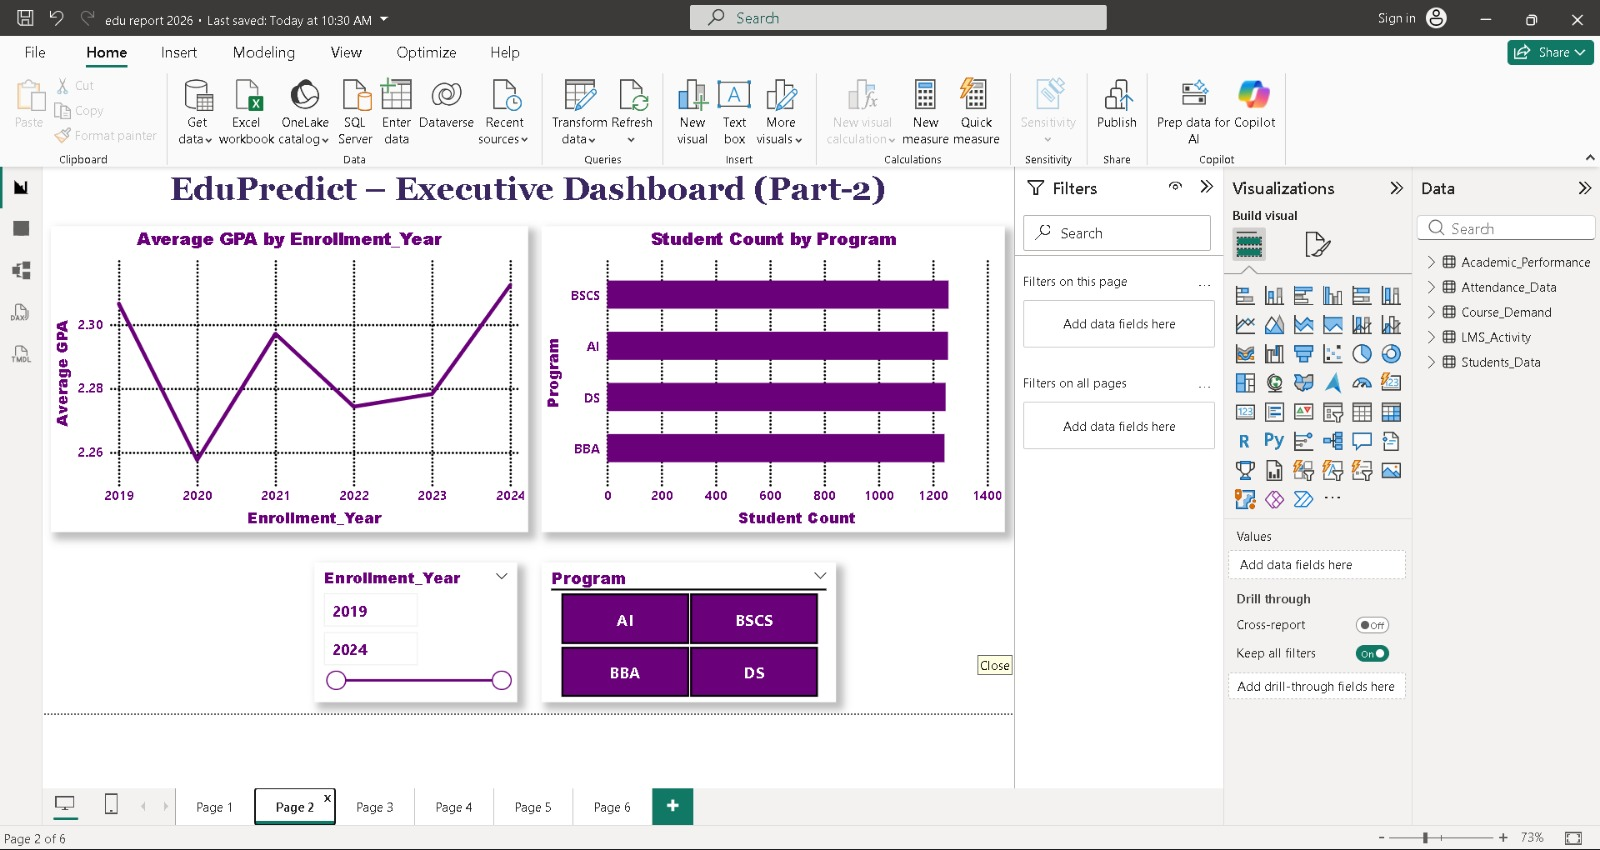

The page's visual inventory and layout, read from the dashboard file:
{"tool":"powerbi","page":{"name":"Page 2","canvas":[1280,720],"ordinal":1},"visuals":[{"type":"textbox","box":[0,0,1280,78.4],"z":0},{"type":"lineChart","fields":{"Category":["Students_Data.Enrollment_Year"],"Y":["Academic_Performance.Average GPA"]},"box":[11,78.2,628.5,403.4],"z":1000},{"type":"barChart","fields":{"Y":["Students_Data.Student Count"],"Category":["Students_Data.Program"]},"box":[657.3,78.2,610.6,403.4],"z":2000},{"type":"slicer","fields":{"Values":["Students_Data.Enrollment_Year"]},"box":[358.1,521.4,267.6,183.9],"z":3000},{"type":"slicer","fields":{"Values":["Students_Data.Program"]},"box":[657.3,521.4,388.3,183.9],"z":4001}]}

Visuals, with their boxes on the page's 1280x720 design canvas (x1, y1, x2, y2). These are canvas units, not pixel positions in the 1600x850 screenshot, which may show the page scaled, cropped or inside an application window:
textbox: BBox(0, 0, 1280, 78)
lineChart - Students_Data.Enrollment_Year x Academic_Performance.Average GPA: BBox(11, 78, 640, 482)
barChart - Students_Data.Student Count x Students_Data.Program: BBox(657, 78, 1268, 482)
slicer - Students_Data.Enrollment_Year: BBox(358, 521, 626, 705)
slicer - Students_Data.Program: BBox(657, 521, 1046, 705)
